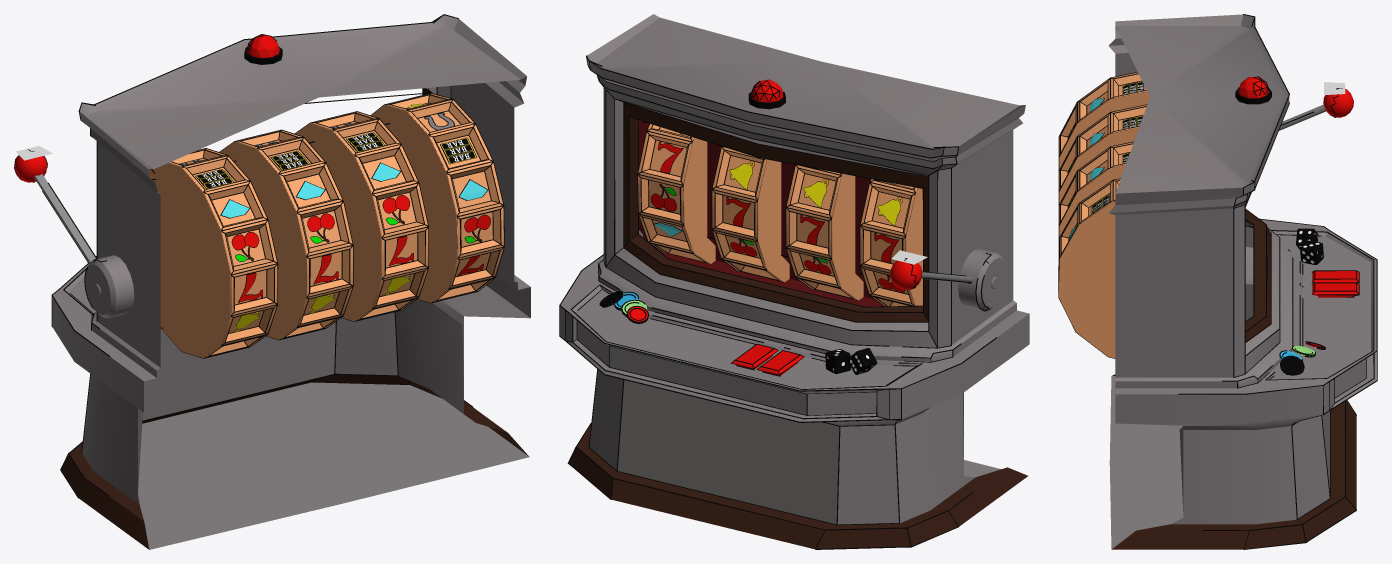
The model's file is Fighter (2).fbx.
3 views of the same model, side by side, from view 1: azimuth 30°, elevation 25°; view 2: azimuth 150°, elevation 25°; view 3: azimuth 270°, elevation 25° (orthographic). The views are drawn at different scales.
Visible parts, largest first — view 1: Cube.018, Cylinder.003, Cylinder.001, Cylinder.008, Cylinder.009, Cylinder.002, LineArt.008, Icosphere; view 2: Cube.018, LineArt.008, Cylinder.009, Cylinder.001, Cylinder.008, Cylinder.003, Cylinder.002, Icosphere, Cube.025, Cube.019; view 3: Cube.018, Cylinder.009, LineArt.008, Cylinder.003, Cylinder.001, Cylinder.008, Cylinder.002, Icosphere, Cube.025, Cube.019, Cube.035.
Part boxes in pixels (box(x1,y1,x2,y2)): Cube.018: box(52, 15, 530, 549); Cylinder.003: box(148, 148, 278, 358); Cylinder.001: box(219, 129, 353, 340); Cylinder.008: box(295, 111, 428, 321); Cylinder.009: box(370, 93, 504, 303); Cylinder.002: box(14, 156, 134, 318); LineArt.008: box(14, 14, 472, 498); Icosphere: box(244, 35, 282, 64); Cube.018: box(560, 14, 1029, 548); LineArt.008: box(559, 55, 996, 549); Cylinder.009: box(637, 123, 715, 263); Cylinder.001: box(785, 165, 863, 300); Cylinder.008: box(711, 146, 789, 282); Cylinder.003: box(859, 179, 922, 306); Cylinder.002: box(890, 249, 1006, 310); Icosphere: box(748, 79, 785, 109); Cube.025: box(732, 344, 777, 369); Cube.019: box(758, 351, 803, 375); Cube.018: box(1109, 14, 1376, 549); Cylinder.009: box(1058, 178, 1120, 358); LineArt.008: box(1178, 14, 1377, 549); Cylinder.003: box(1058, 72, 1149, 170); Cylinder.001: box(1058, 104, 1147, 204); Cylinder.008: box(1058, 141, 1133, 254); Cylinder.002: box(1279, 89, 1353, 130); Icosphere: box(1235, 77, 1271, 104); Cube.025: box(1312, 283, 1358, 297); Cube.019: box(1312, 271, 1358, 282); Cube.035: box(1300, 240, 1323, 264).
Size of the model in its own units: 1573 by 1569 by 1177.
